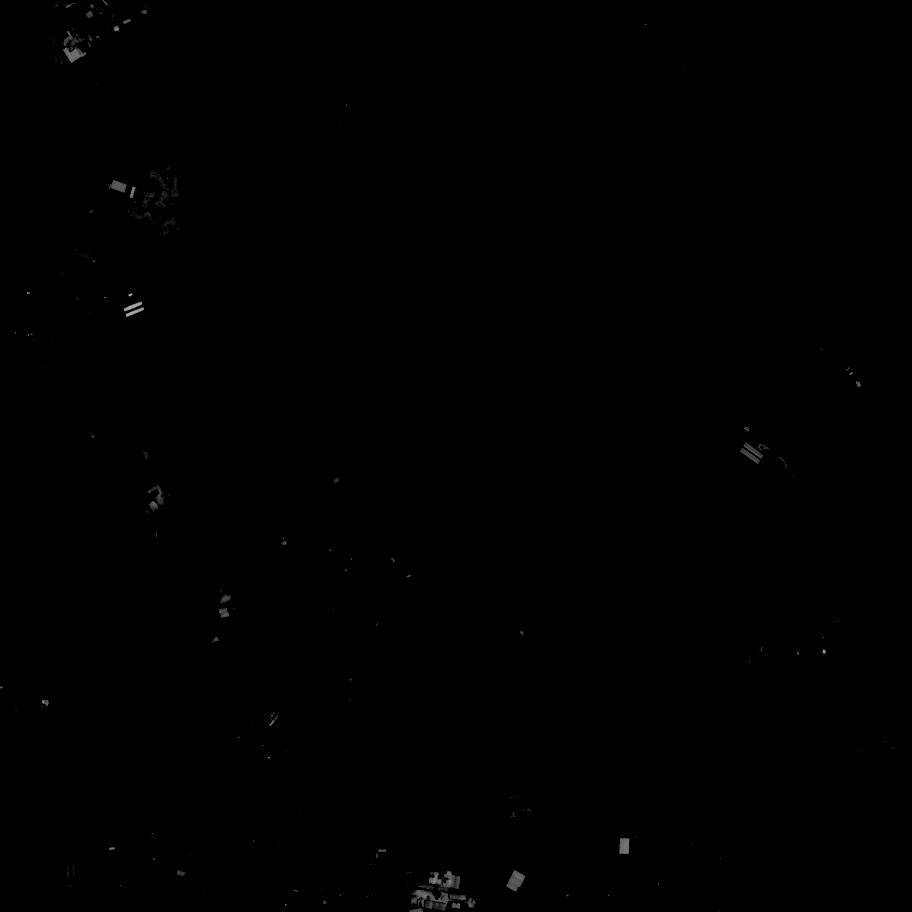storage-tank: (536, 626, 550, 639), (527, 628, 538, 640)
